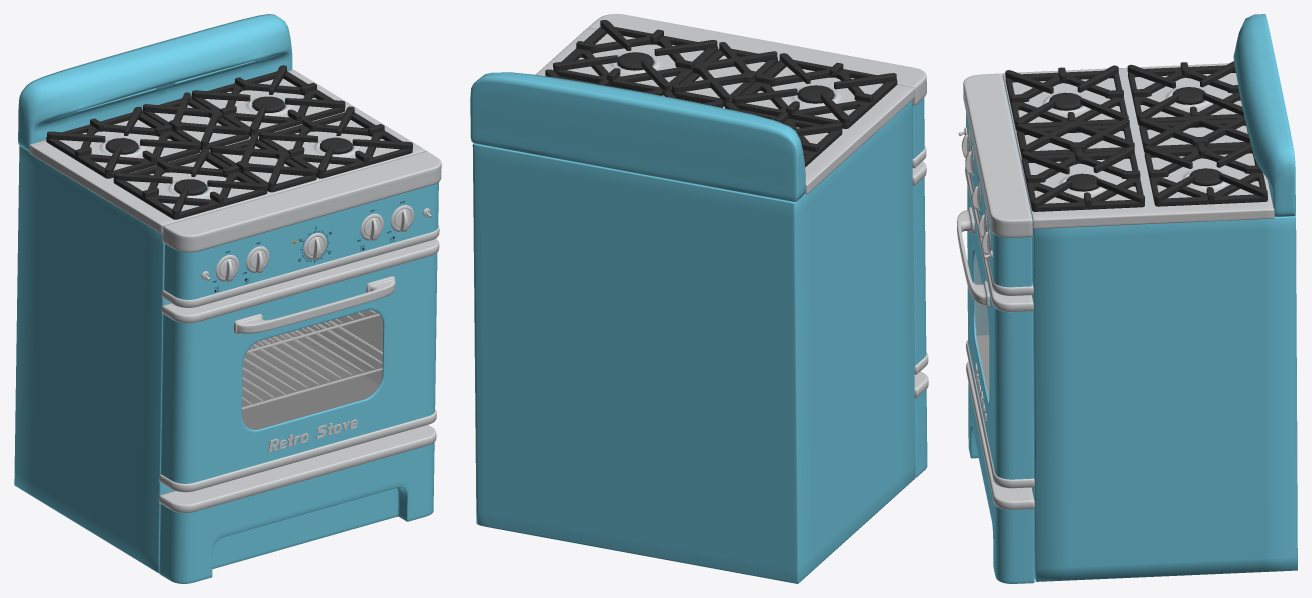
Rendered from estufa.fbx.
3 renders of one model, left to right at view 1: azimuth 30°, elevation 25°; view 2: azimuth 150°, elevation 25°; view 3: azimuth 270°, elevation 25°, orthographic. The views are drawn at different scales.
Visible parts, largest first — view 1: 11657_Stove_with_Range_V2_L2; view 2: 11657_Stove_with_Range_V2_L2; view 3: 11657_Stove_with_Range_V2_L2.
Boxes of the visible parts, x1,y1,x2,y2 form: 11657_Stove_with_Range_V2_L2: [14, 14, 441, 583]; 11657_Stove_with_Range_V2_L2: [470, 14, 928, 583]; 11657_Stove_with_Range_V2_L2: [957, 14, 1297, 583].
Bounding box in the file's own units: 8325 × 10791 × 7747.
